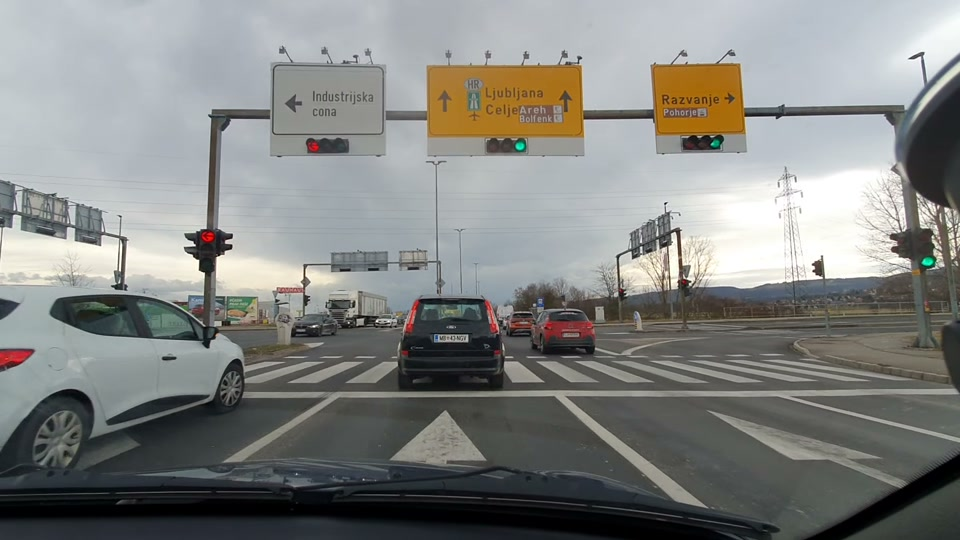vehicle_ign: (4, 268, 251, 472), (395, 287, 504, 399), (531, 302, 599, 358), (510, 305, 534, 341)
vehicle_s: (325, 287, 389, 328), (289, 313, 341, 339)
